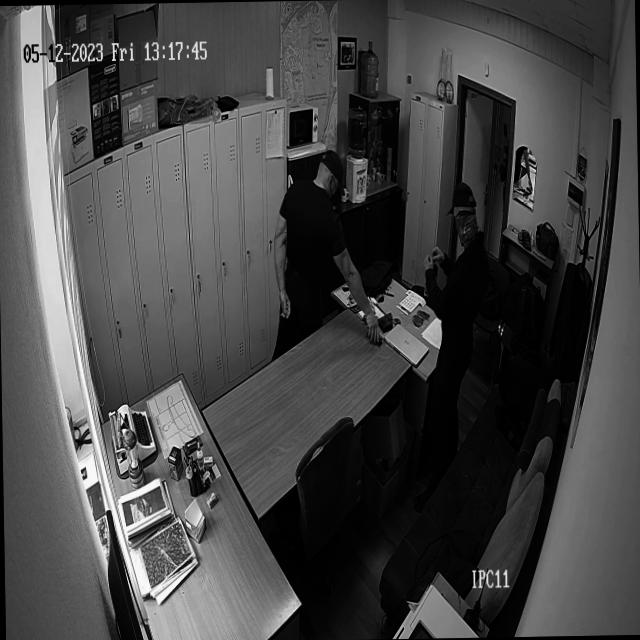gun: (502, 121, 509, 163)
person: (406, 180, 494, 514), (266, 146, 382, 364)
person with a gun: (494, 122, 514, 184)
